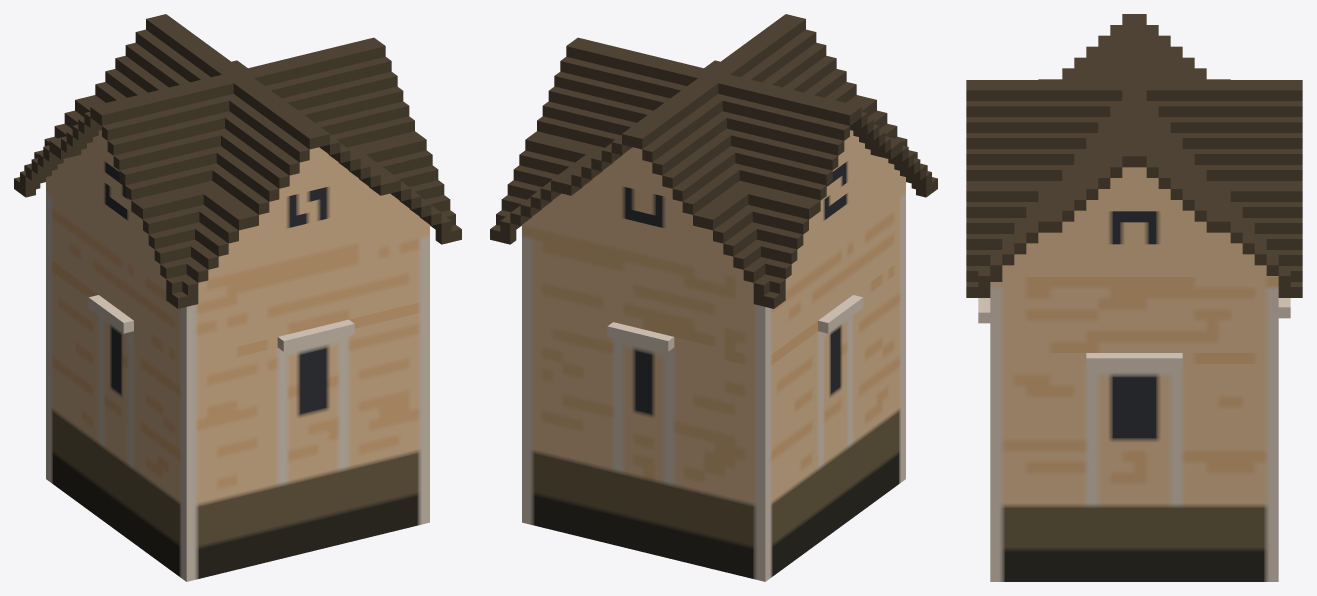
File: building3.fbx
3 renders of one model, left to right at view 1: azimuth 30°, elevation 25°; view 2: azimuth 150°, elevation 25°; view 3: azimuth 270°, elevation 25°, orthographic. The views are drawn at different scales.
Parts seen in each view (by area): view 1: Matrix; view 2: Matrix; view 3: Matrix.
Boxes of the visible parts, x1,y1,x2,y2 form: Matrix: (14,14,461,581); Matrix: (490,14,937,581); Matrix: (966,14,1302,581).
Size of the model in its own units: 28 by 40 by 28.
Materials: 1 (1 with a texture image).
